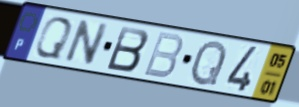4: (222, 45, 260, 94)
B: (104, 24, 152, 74), (140, 30, 185, 81)
N: (60, 18, 112, 67)
Q: (32, 15, 75, 61), (189, 39, 229, 88)
